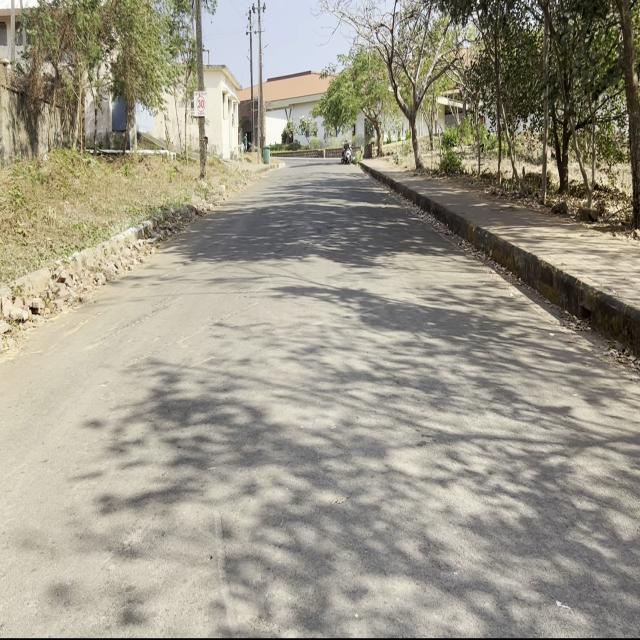Road: (5, 166, 637, 631)
